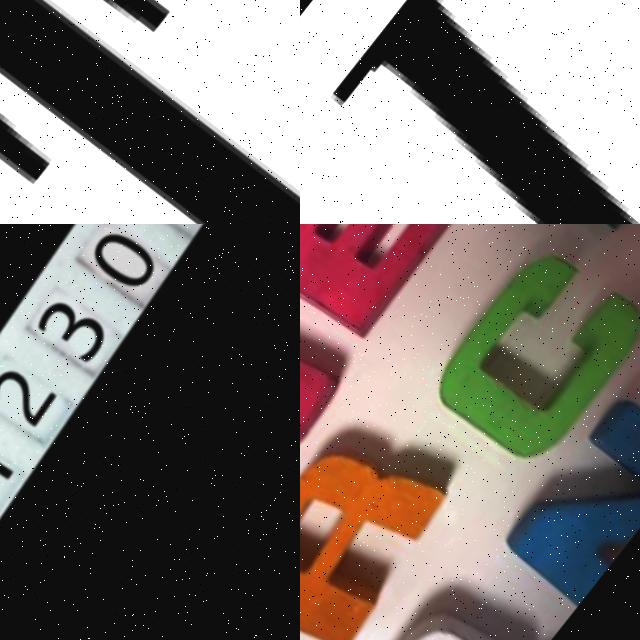0: (74, 224, 171, 314)
1: (0, 418, 23, 522)
2: (0, 353, 67, 447)
3: (19, 285, 121, 385)
6: (122, 224, 219, 247)
C: (427, 233, 640, 475)
E: (300, 224, 473, 352)
J: (300, 0, 640, 224)
R: (300, 413, 467, 640)
T: (0, 0, 300, 224)
W: (300, 300, 352, 548)
